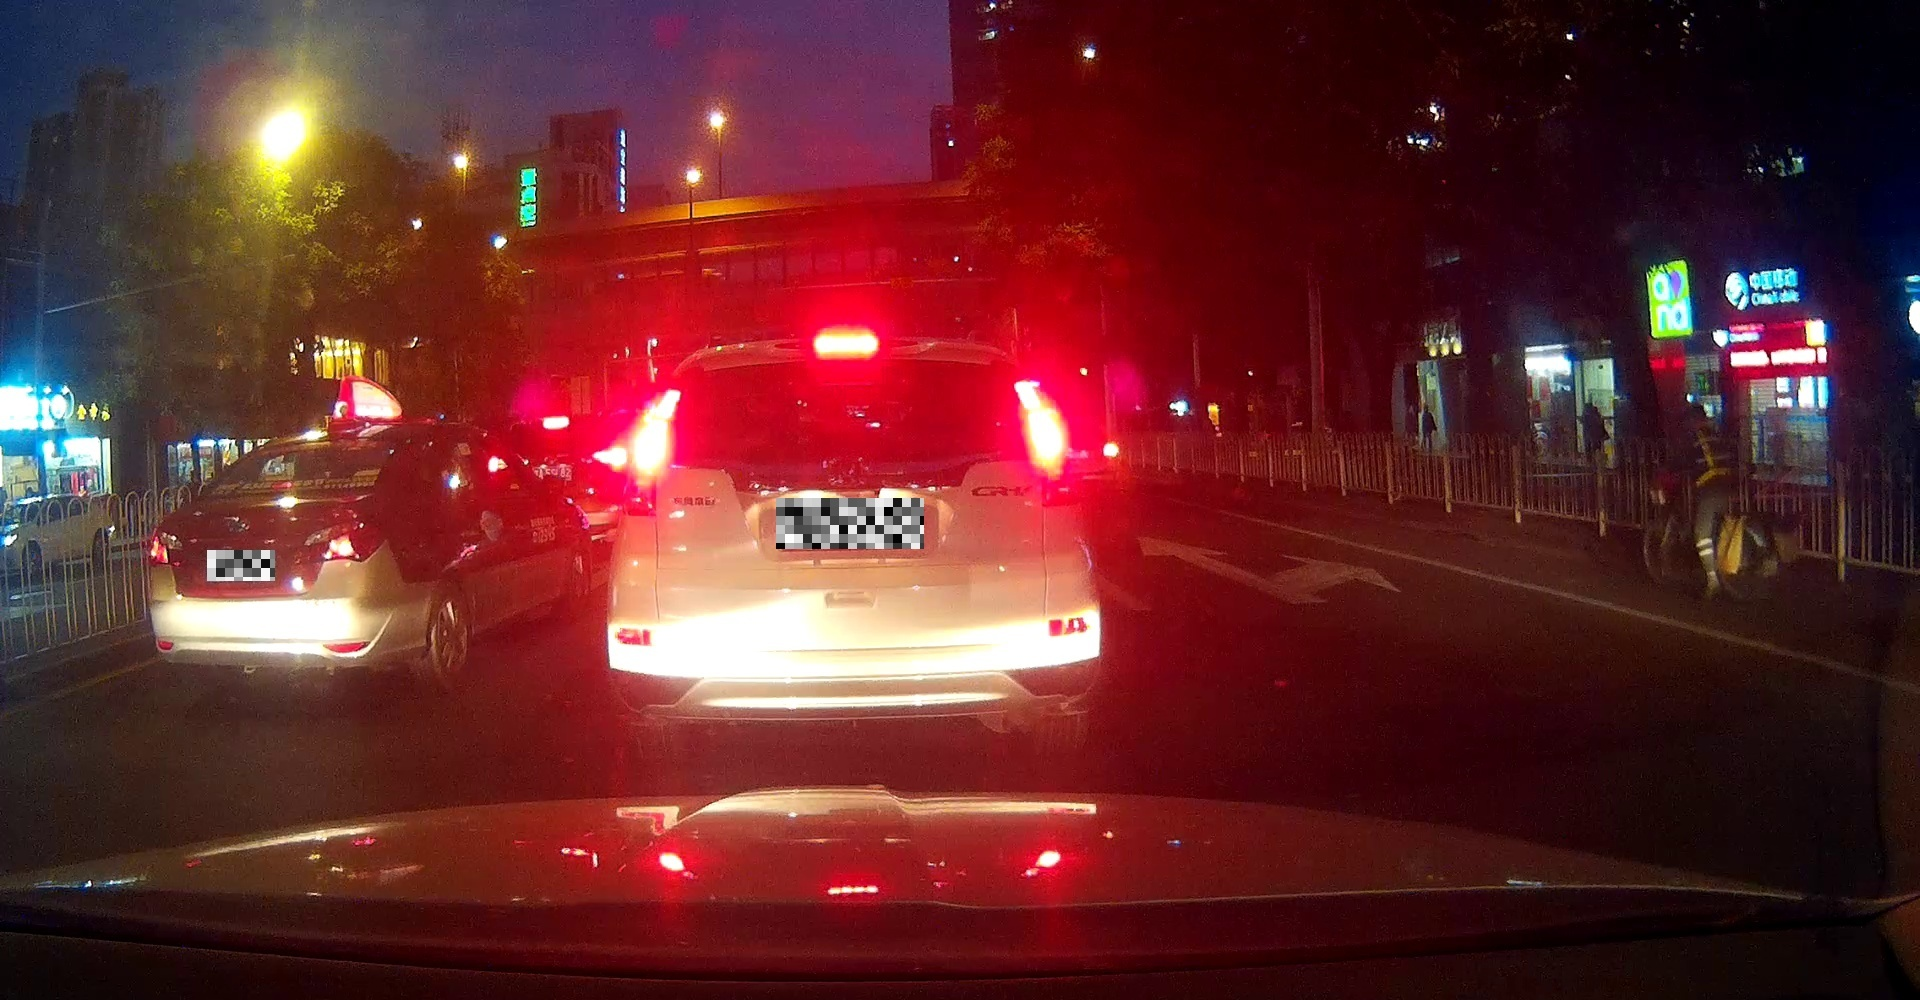L_light: (621, 387, 682, 516), (149, 528, 188, 563)
R_light: (1013, 376, 1079, 504), (296, 518, 387, 562)
T_light: (814, 335, 879, 355), (270, 480, 293, 490)
night-brake: (606, 330, 1103, 755), (146, 418, 403, 694)
plate_1: (207, 549, 276, 581)
plate_2: (776, 497, 924, 549)
